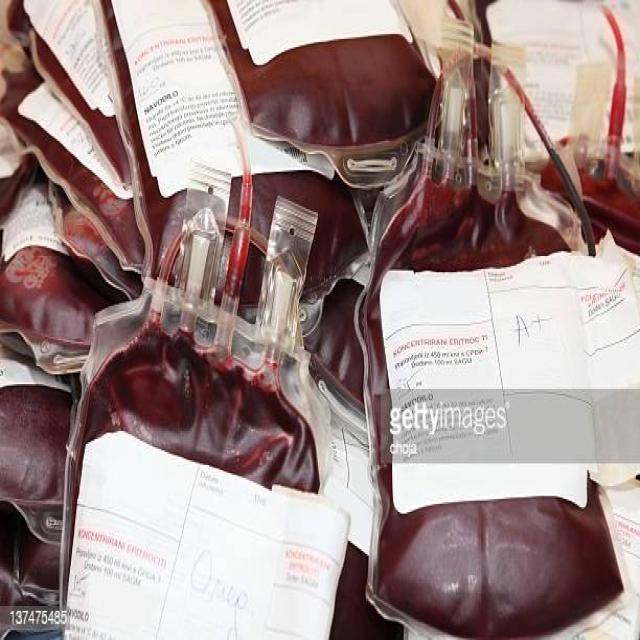B3: (360, 112, 629, 619)
